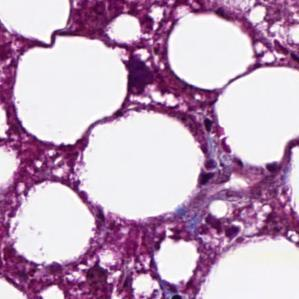inflammation: (202, 211, 246, 244), (194, 156, 225, 189)
